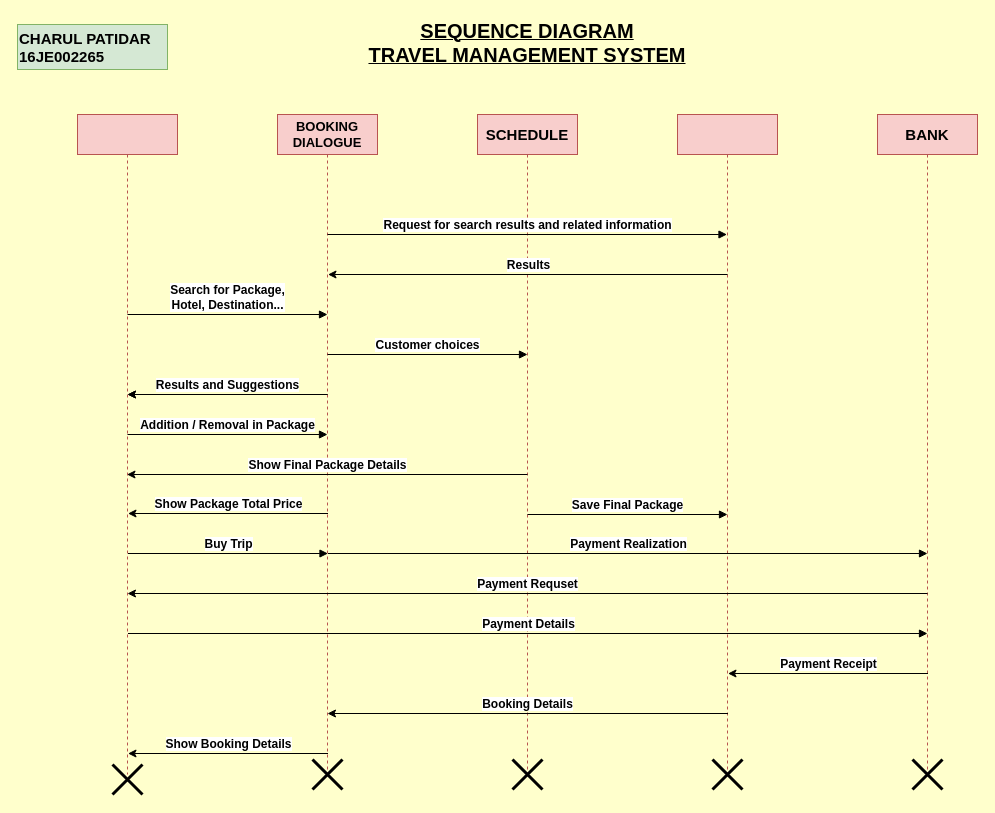
This 995x813 diagram has some shape labels left out. Here are the shapes that lost their labels. From the top down, the box of each, then its label:
(76, 114, 178, 774): CUSTOMER
(676, 114, 778, 774): DATABASE
